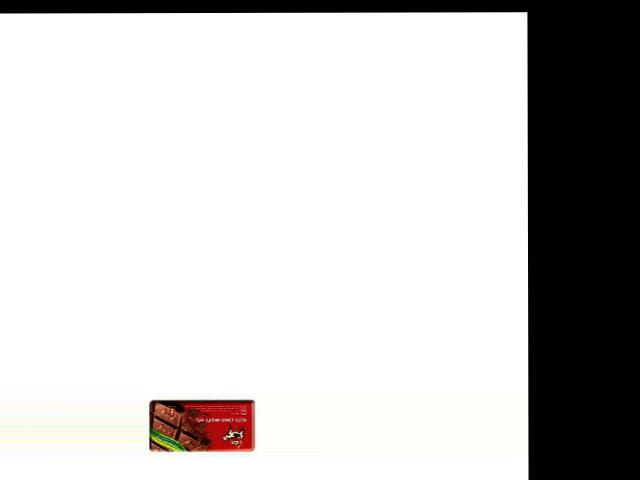chocolate: (148, 397, 256, 452)
